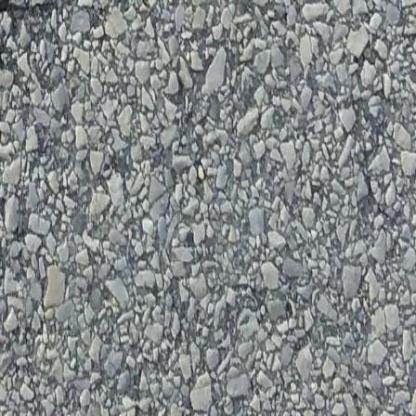Cracks: (0, 0, 81, 67)
